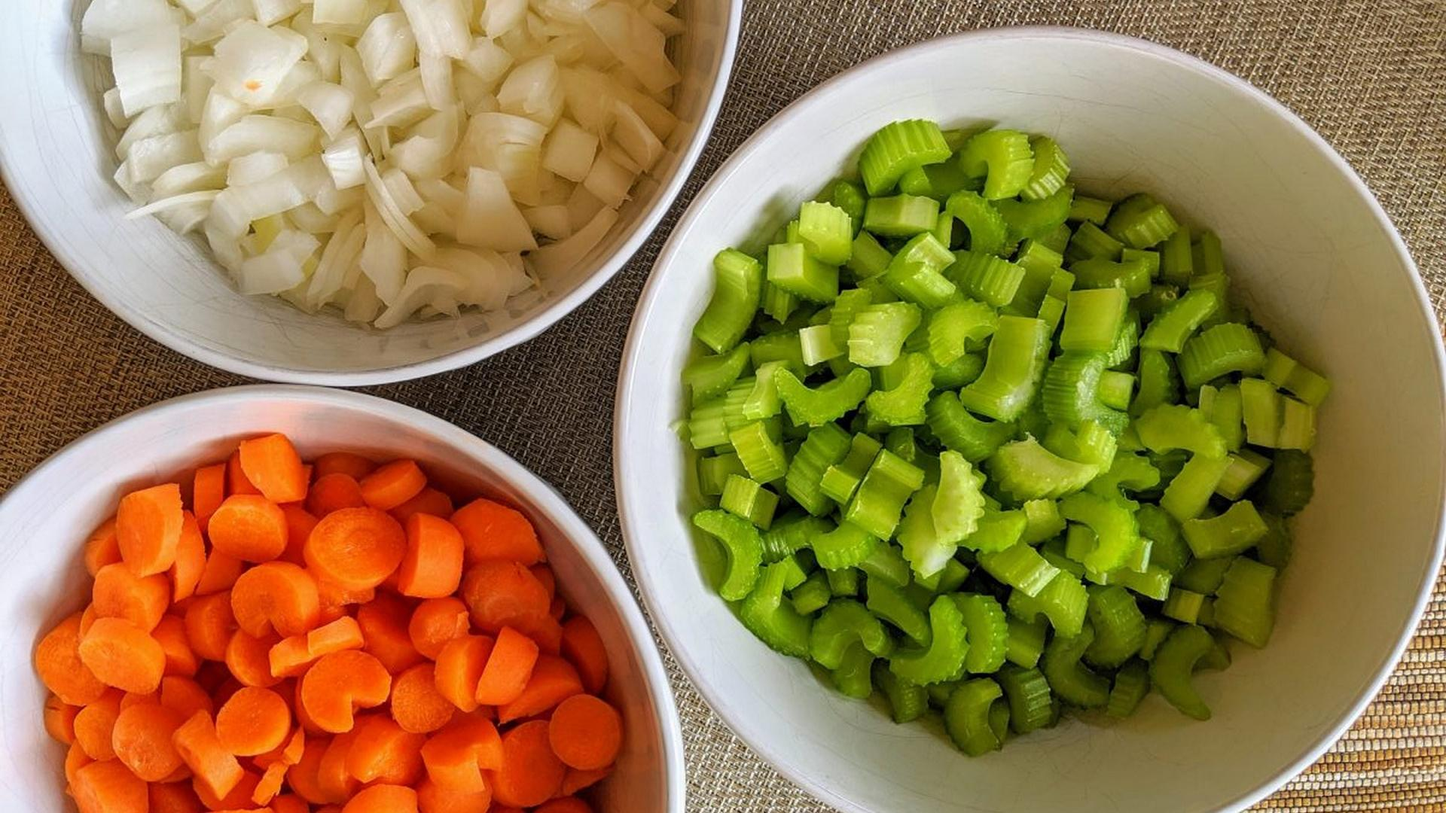carrot: (81, 425, 588, 813)
onion: (66, 6, 704, 345)
